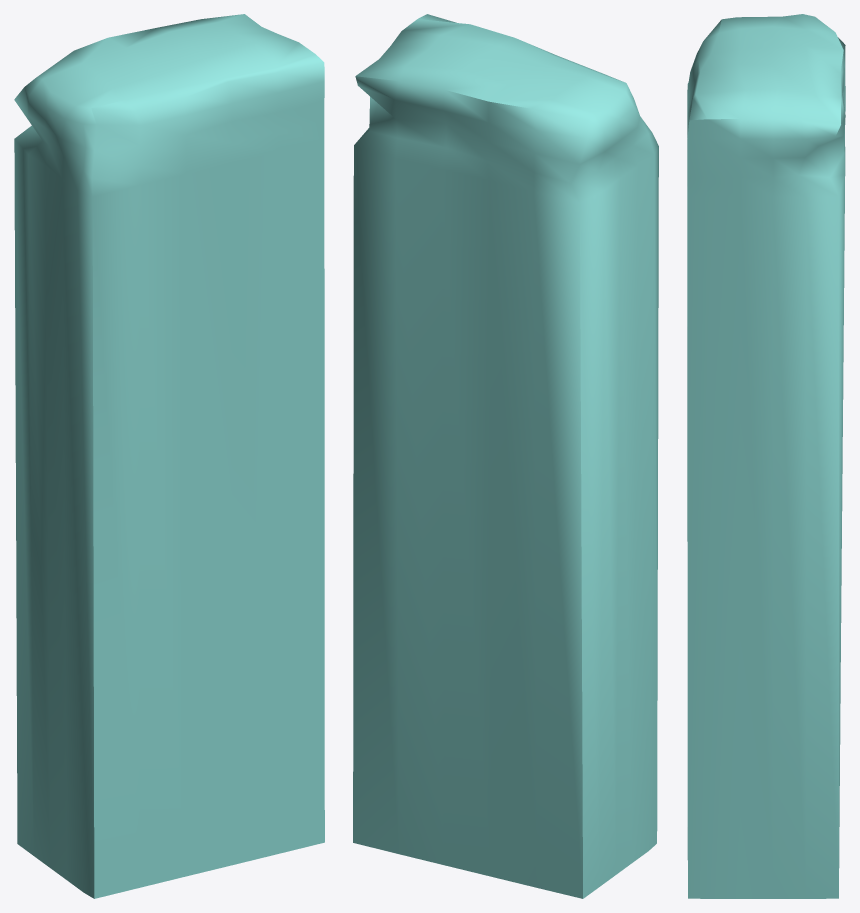
The picture shows the model from 3 angles, left to right: view 1: azimuth 30°, elevation 25°; view 2: azimuth 150°, elevation 25°; view 3: azimuth 270°, elevation 25°; orthographic projection.
Visible parts, largest first — view 1: Cube.002; view 2: Cube.002; view 3: Cube.002.
Part boxes in pixels (<box>): Cube.002: <box>14,14,324,898</box>; Cube.002: <box>353,14,658,898</box>; Cube.002: <box>687,14,845,898</box>.
Bounding box in the file's own units: 976 × 3081 × 560.
